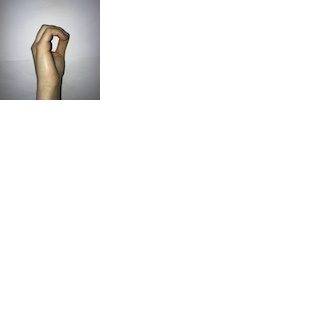rock: (25, 21, 72, 89)
